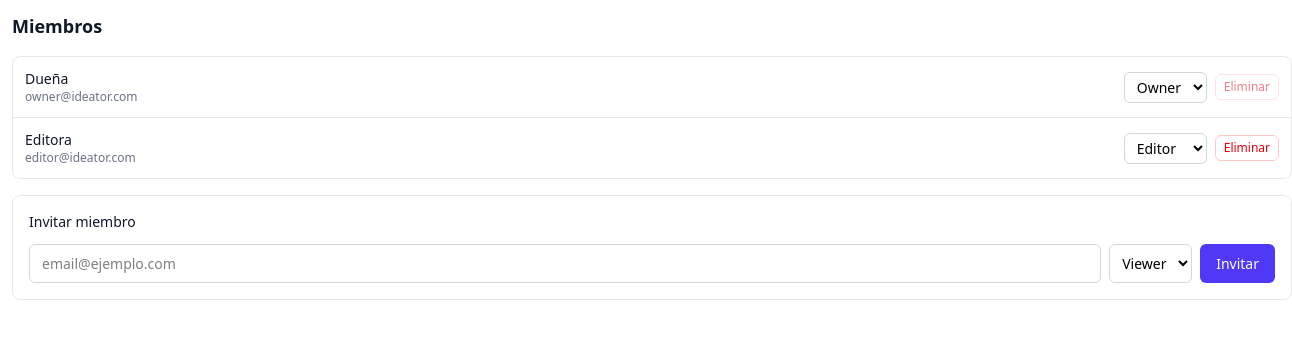
Test: MembersPanel - renderizado condicional según rol › no invita si el email está vacío
Step 1. Click the button "Invitar" → (1238, 264), box [1200,244,1275,283]
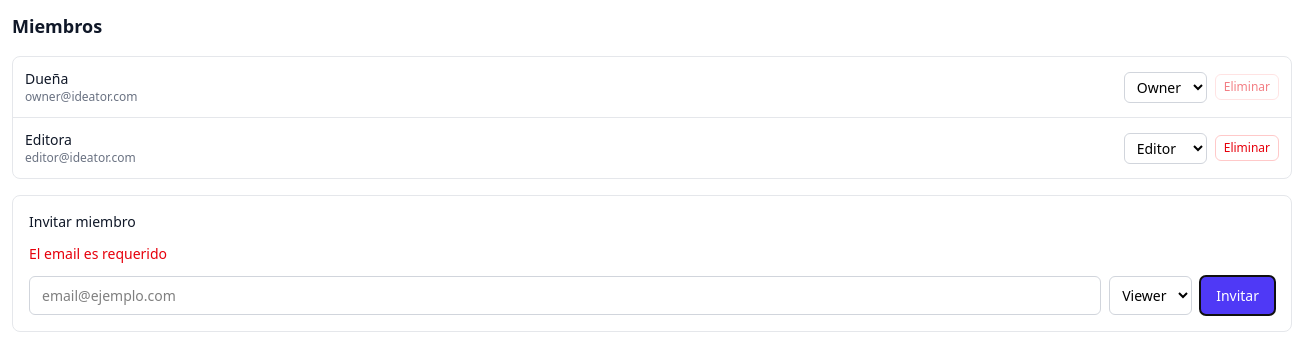
Expected: the text "El email es requerido" is shown, [29,244,167,263]
